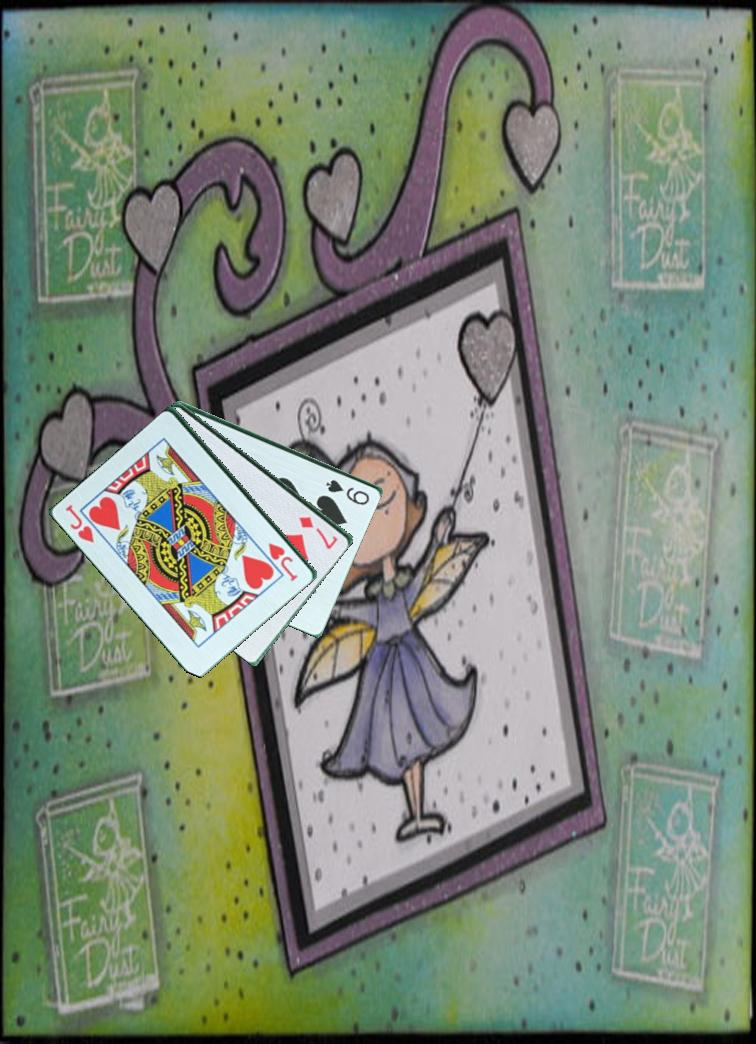7d: (295, 511, 341, 551)
9s: (322, 476, 373, 508)
jh: (62, 501, 98, 546), (265, 539, 301, 583)
